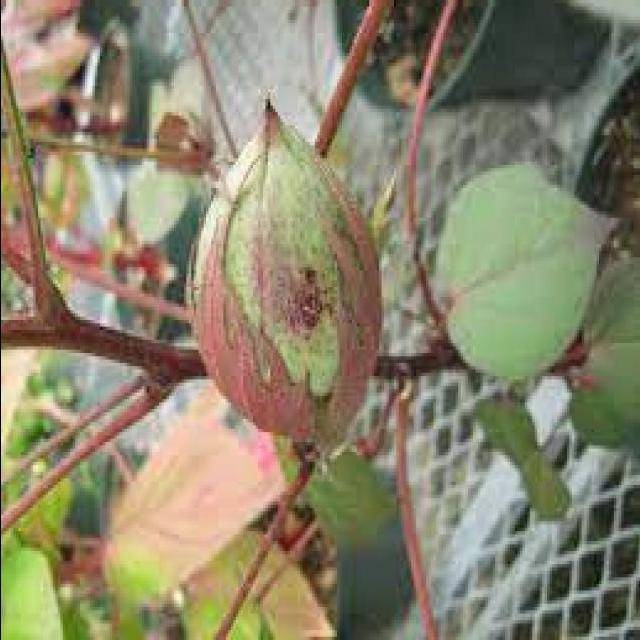Early Boll: (185, 96, 383, 452)
